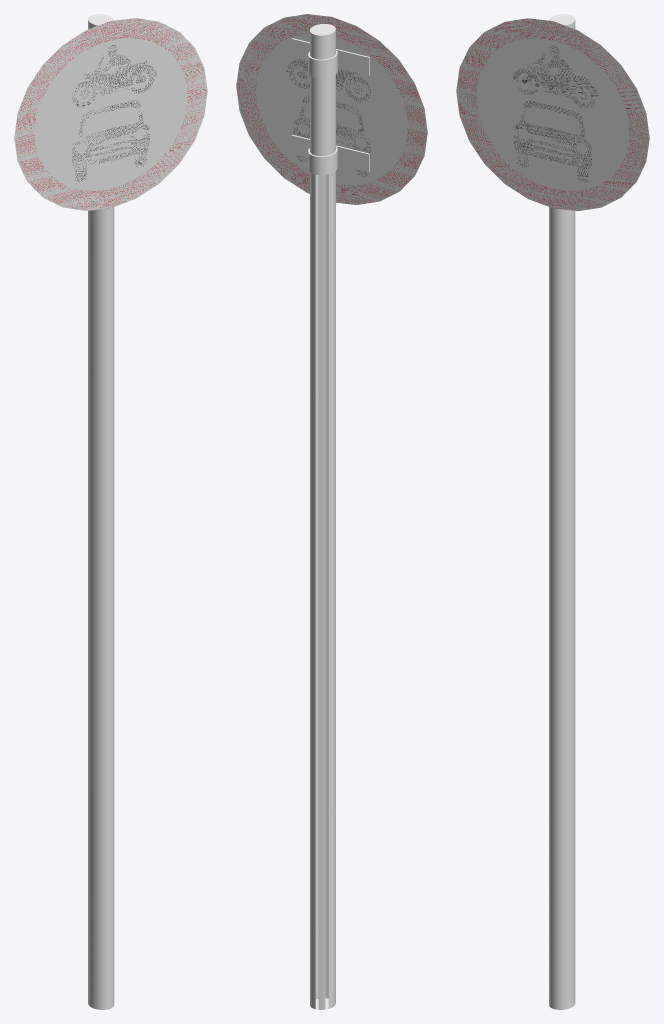
File: Signs_Type_2.fbx
The picture shows the model from 3 angles, left to right: view 1: azimuth 30°, elevation 25°; view 2: azimuth 150°, elevation 25°; view 3: azimuth 330°, elevation 25°; orthographic projection.
Visible parts, largest first — view 1: SignEnv2; view 2: SignEnv2; view 3: SignEnv2.
Boxes of the visible parts, bbox=[...] form: SignEnv2: bbox=[14, 14, 207, 1009]; SignEnv2: bbox=[236, 14, 427, 1009]; SignEnv2: bbox=[456, 14, 649, 1009].
Size of the model in its own units: 78.36 by 383 by 12.54.
